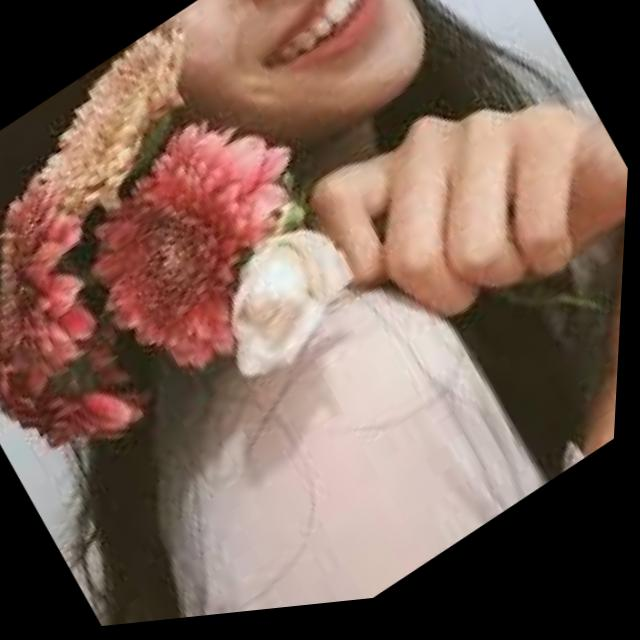Flower: (63, 128, 341, 416), (0, 177, 182, 500), (0, 20, 241, 236), (213, 218, 393, 401)
